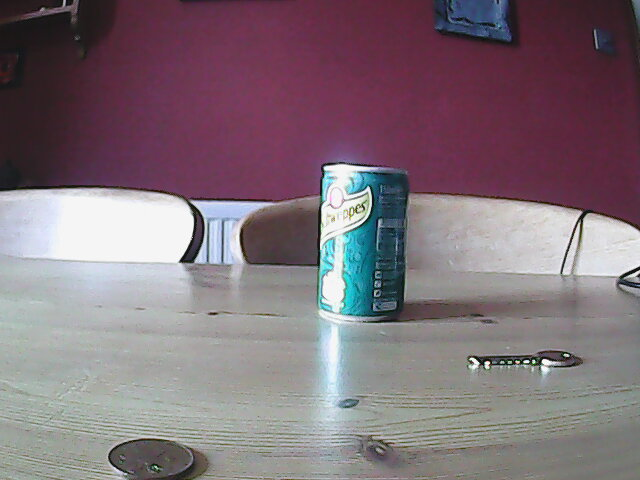Can: (315, 163, 414, 327)
Coin: (105, 435, 200, 480)
Key: (463, 348, 580, 374)
